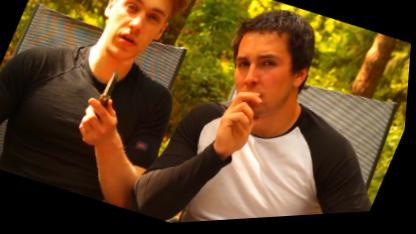knife: (74, 58, 136, 134)
